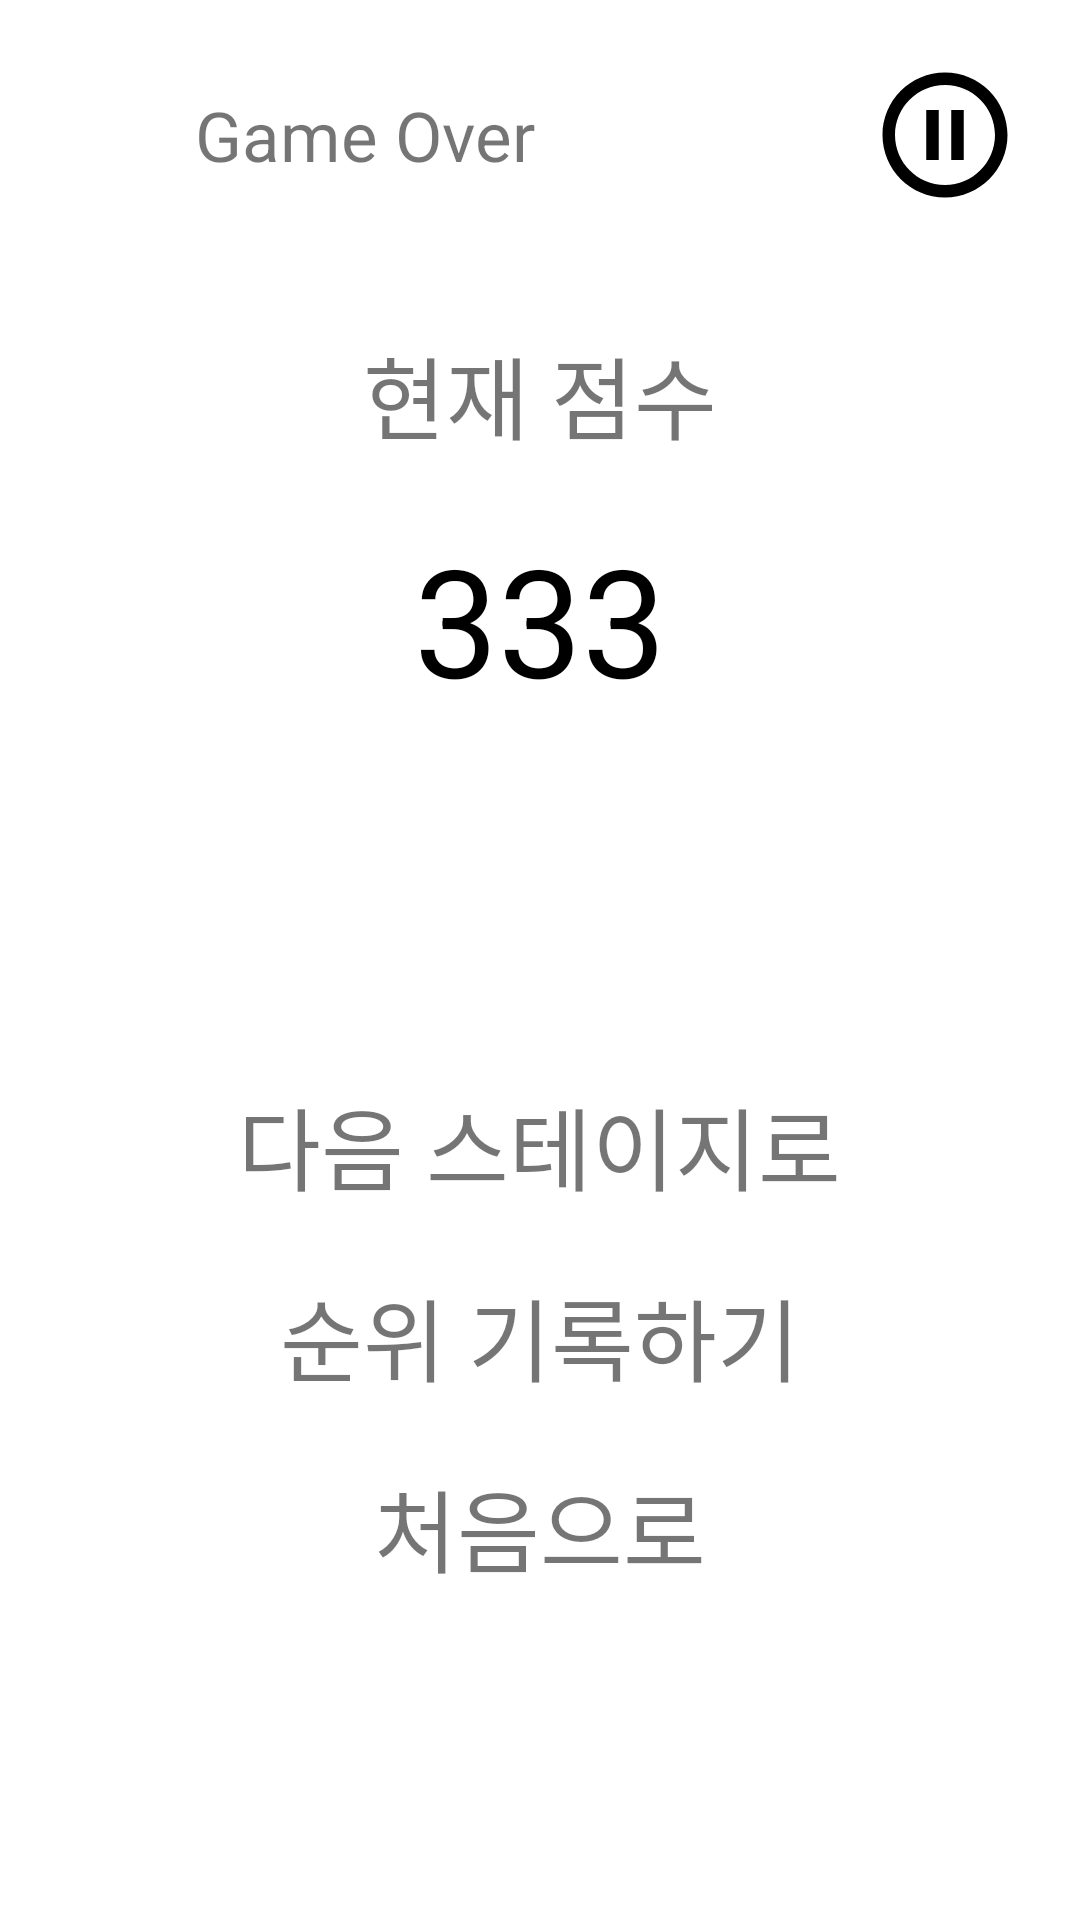

Locate icon controls on the screen. Image size 1080px×1920px, boxes as Rect(x1, y1, x2, y2).
pause: Rect(882, 72, 1008, 198)
